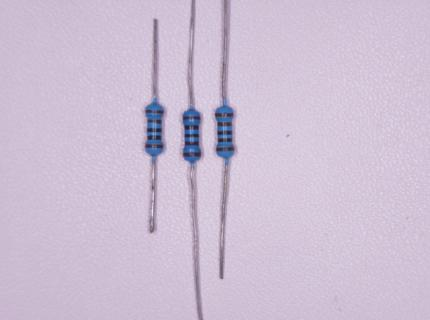Black band: (185, 125, 199, 130), (147, 128, 161, 132), (218, 131, 232, 135), (148, 135, 161, 139), (219, 138, 232, 142), (185, 134, 199, 137)
Brown band: (217, 147, 234, 151), (186, 141, 199, 146), (218, 122, 232, 126), (146, 110, 164, 113), (145, 145, 163, 148), (215, 113, 233, 116), (148, 120, 161, 124), (184, 153, 201, 156), (183, 117, 200, 120)
